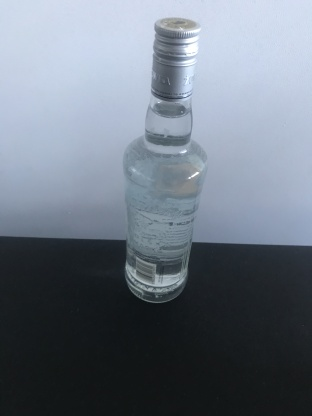nakretka: (149, 15, 202, 103)
